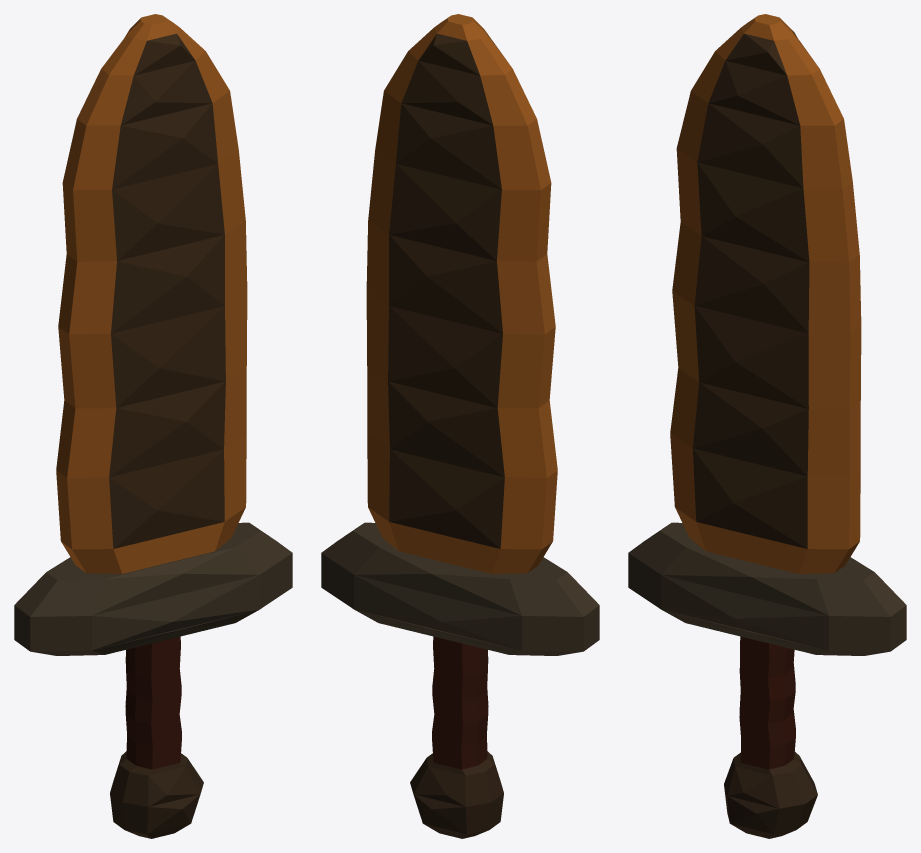
The model's file is BE_PowerMesh_HeldEarthSword.fbx.
3 views of the same model, side by side, from view 1: azimuth 30°, elevation 25°; view 2: azimuth 150°, elevation 25°; view 3: azimuth 330°, elevation 25° (orthographic).
Parts seen in each view (by area): view 1: BE_PowerMesh_HeldEarthSword; view 2: BE_PowerMesh_HeldEarthSword; view 3: BE_PowerMesh_HeldEarthSword.
Part boxes in pixels (x1,y1,x2,y2): BE_PowerMesh_HeldEarthSword: [14, 14, 292, 838]; BE_PowerMesh_HeldEarthSword: [321, 14, 599, 838]; BE_PowerMesh_HeldEarthSword: [628, 14, 906, 838].
Size of the model in its own units: 190 by 560 by 65.
1 material, 1 textured.
